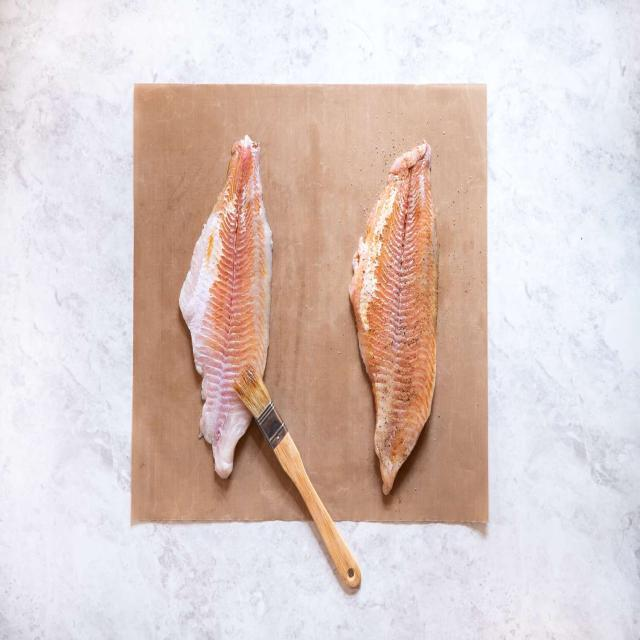Catfish: (182, 353, 245, 488)
